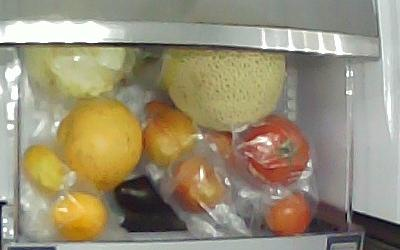cabbage: (18, 45, 137, 98)
eggplant: (113, 174, 177, 213)
melon: (159, 45, 285, 129)
pear: (53, 94, 143, 192)
prune_vinyl: (137, 98, 197, 165), (167, 154, 227, 214), (262, 192, 311, 236), (203, 131, 239, 174)
tangerine_vinyl: (49, 191, 107, 240), (21, 143, 68, 197)
tomato_vinyl: (234, 113, 310, 188)
